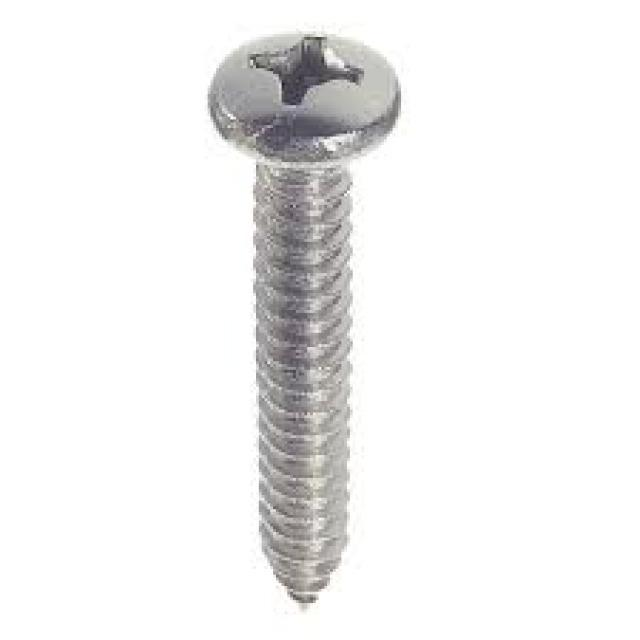Screw: (205, 34, 401, 606)
